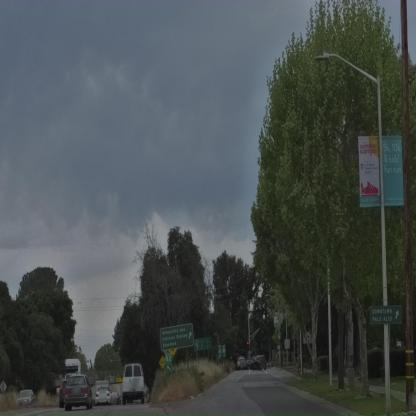bus: (64, 360, 82, 380)
car: (60, 376, 94, 410), (94, 382, 113, 407), (18, 389, 35, 407), (238, 357, 247, 369)
truck: (121, 364, 145, 404)
